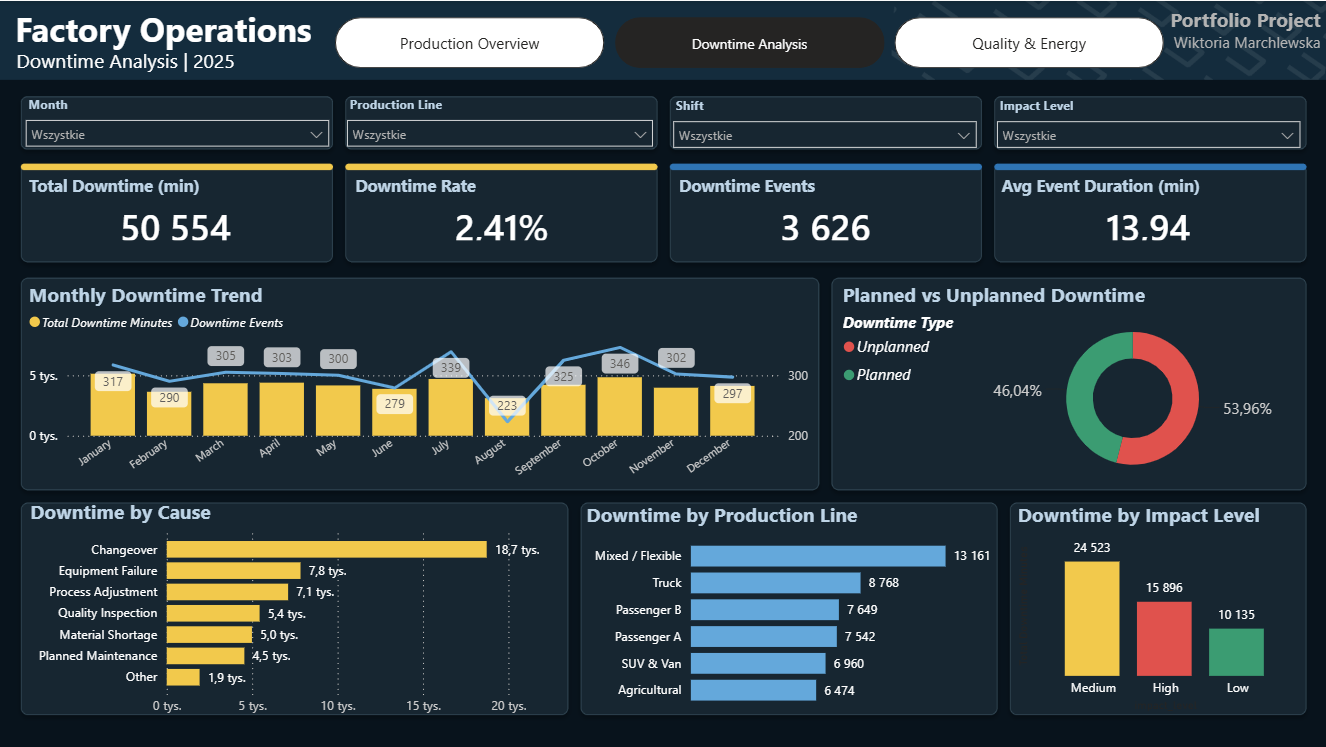

The dashboard page shown, as its layout file describes it:
{"tool":"powerbi","page":{"name":"Downtime Analysis","canvas":[1280,720],"ordinal":2},"visuals":[{"type":"textbox","box":[10,0,314.3,55.7],"z":0},{"type":"textbox","box":[11,40,257.1,44.3],"z":1000},{"type":"textbox","box":[1080,0,200,62.9],"z":2000},{"type":"slicer","fields":{"Values":["dim_date.month_name"]},"box":[14,87,313,58],"z":3000},{"type":"slicer","fields":{"Values":["dim_product.product_name"]},"box":[952.3,88,312.9,54.9],"z":4000},{"type":"slicer","fields":{"Values":["dim_line.line_name"]},"box":[324.3,87,315.7,57.1],"z":5000},{"type":"slicer","fields":{"Values":["dim_shift.shift_name"]},"box":[639.5,87.8,312.9,57.6],"z":6000},{"type":"cardVisual","title":"Downtime Rate","fields":{"Data":["_Measures.Downtime Rate %"]},"box":[337.6,166,293,82.3],"z":7000},{"type":"cardVisual","title":"Downtime Events","fields":{"Data":["_Measures.Downtime Events"]},"box":[650.4,166,293.7,82.3],"z":8000},{"type":"cardVisual","title":"Avg Event Duration (min)","fields":{"Data":["_Measures.Average Downtime per Event"]},"box":[961.9,166,293.7,82.3],"z":9000},{"type":"cardVisual","title":"Total Downtime (min)","fields":{"Data":["_Measures.Total Downtime Minutes"]},"box":[23.3,166,293.7,82.3],"z":10000},{"type":"lineClusteredColumnComboChart","title":"Monthly Downtime Trend","fields":{"Category":["dim_date.month_name"],"Y":["_Measures.Total Downtime Minutes"],"Y2":["_Measures.Downtime Events"]},"box":[23.3,270.3,763,200.3],"z":11000},{"type":"donutChart","title":"Planned vs Unplanned Downtime","fields":{"Category":["fact_downtime.Downtime Type"],"Y":["_Measures.Total Downtime Minutes"]},"box":[808.2,270.3,447.3,202],"z":12000},{"type":"clusteredBarChart","title":"Downtime by Cause","fields":{"Category":["fact_downtime.downtime_cause"],"Y":["_Measures.Total Downtime Minutes"]},"box":[24,480,518.7,218.2],"z":13000},{"type":"clusteredBarChart","title":"Downtime by Production Line","fields":{"Category":["dim_line.line_name"],"Y":["_Measures.Total Downtime Minutes"]},"box":[561.2,483,400.7,208.6],"z":14000},{"type":"clusteredColumnChart","title":"Downtime by Impact Level","fields":{"Category":["fact_downtime.impact_level"],"Y":["_Measures.Total Downtime Minutes"]},"box":[977,483,278.6,208.6],"z":15000},{"type":"pageNavigator","box":[323.8,15.1,800,49.4],"z":16000}]}

Visuals, with their boxes in screenshot pixels (x1, y1, x2, y2), scaled from the page's 1280x720 canvas onto the 1326x747 screenshot:
textbox: locate(10, 0, 336, 58)
textbox: locate(11, 42, 278, 87)
textbox: locate(1119, 0, 1325, 65)
slicer - dim_date.month_name: locate(15, 90, 339, 150)
slicer - dim_product.product_name: locate(987, 91, 1311, 148)
slicer - dim_line.line_name: locate(336, 90, 663, 150)
slicer - dim_shift.shift_name: locate(662, 91, 987, 151)
"Downtime Rate" cardVisual: locate(350, 172, 653, 258)
"Downtime Events" cardVisual: locate(674, 172, 978, 258)
"Avg Event Duration (min)" cardVisual: locate(996, 172, 1301, 258)
"Total Downtime (min)" cardVisual: locate(24, 172, 328, 258)
"Monthly Downtime Trend" lineClusteredColumnComboChart: locate(24, 280, 815, 488)
"Planned vs Unplanned Downtime" donutChart: locate(837, 280, 1301, 490)
"Downtime by Cause" clusteredBarChart: locate(25, 498, 562, 724)
"Downtime by Production Line" clusteredBarChart: locate(581, 501, 996, 718)
"Downtime by Impact Level" clusteredColumnChart: locate(1012, 501, 1301, 718)
pageNavigator: locate(335, 16, 1164, 67)
